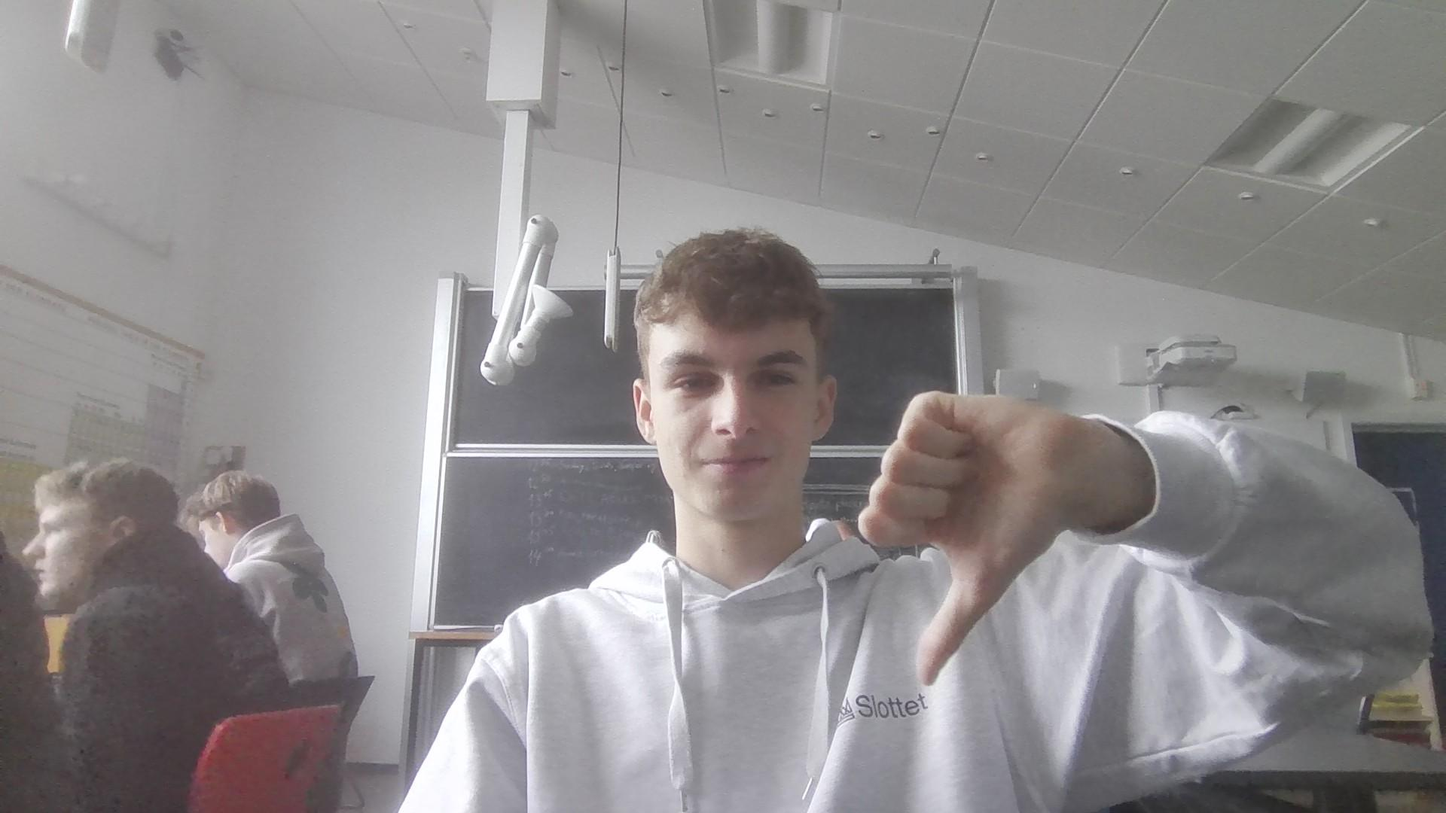thumbs down: (852, 351, 1077, 701)
